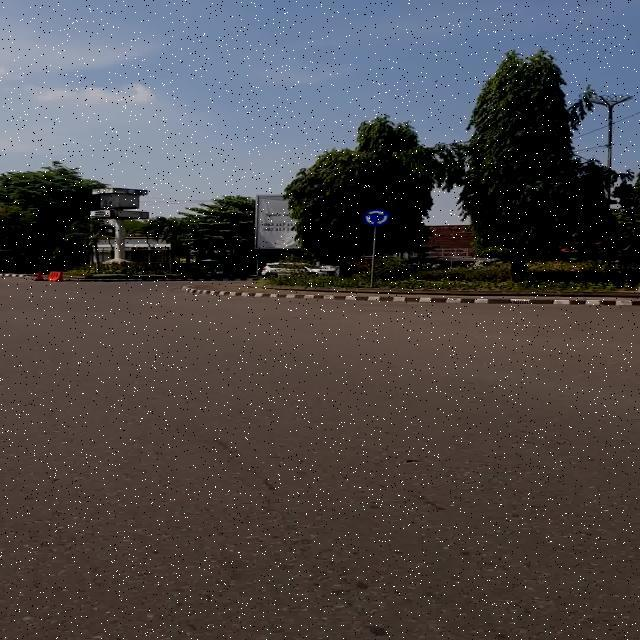Ikuti Bundaran: (361, 208, 391, 226)
